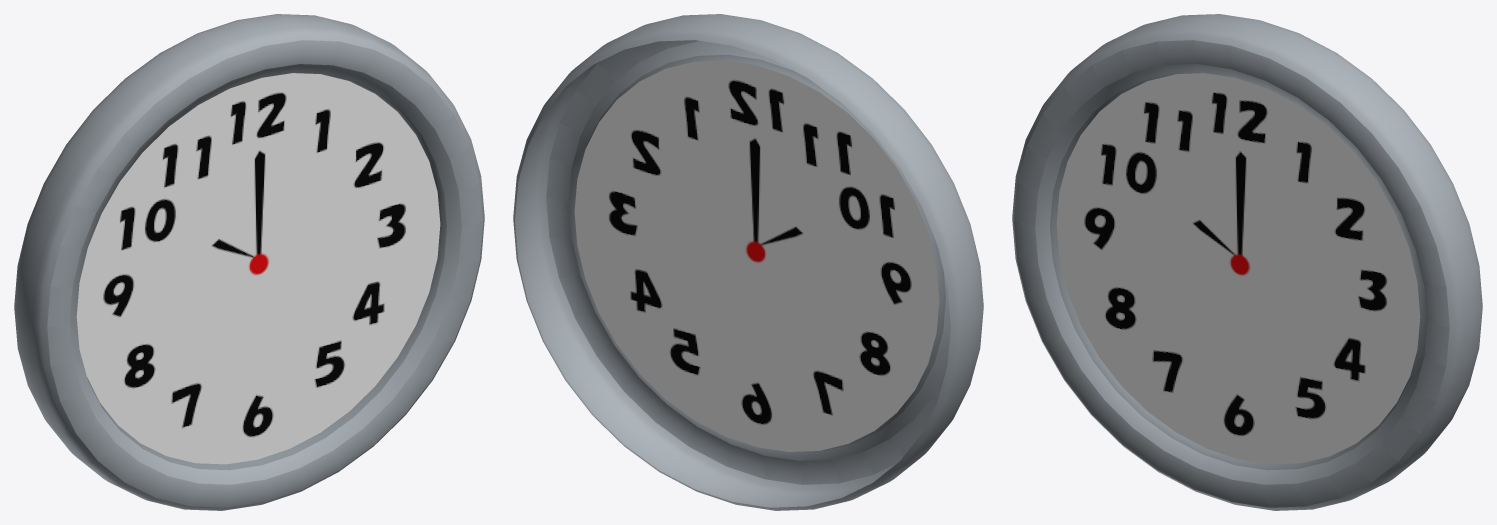
The model's file is Asset_22_Clock.fbx.
3 views of the same model, side by side, from view 1: azimuth 30°, elevation 25°; view 2: azimuth 150°, elevation 25°; view 3: azimuth 330°, elevation 25° (orthographic).
Parts seen in each view (by area): view 1: SK_22_Clock; view 2: SK_22_Clock; view 3: SK_22_Clock.
Boxes of the visible parts, x1,y1,x2,y2 form: SK_22_Clock: (14, 14, 484, 510); SK_22_Clock: (513, 14, 983, 510); SK_22_Clock: (1012, 14, 1482, 510).
Bounding box in the file's own units: 3.18 × 3.18 × 0.4037.
